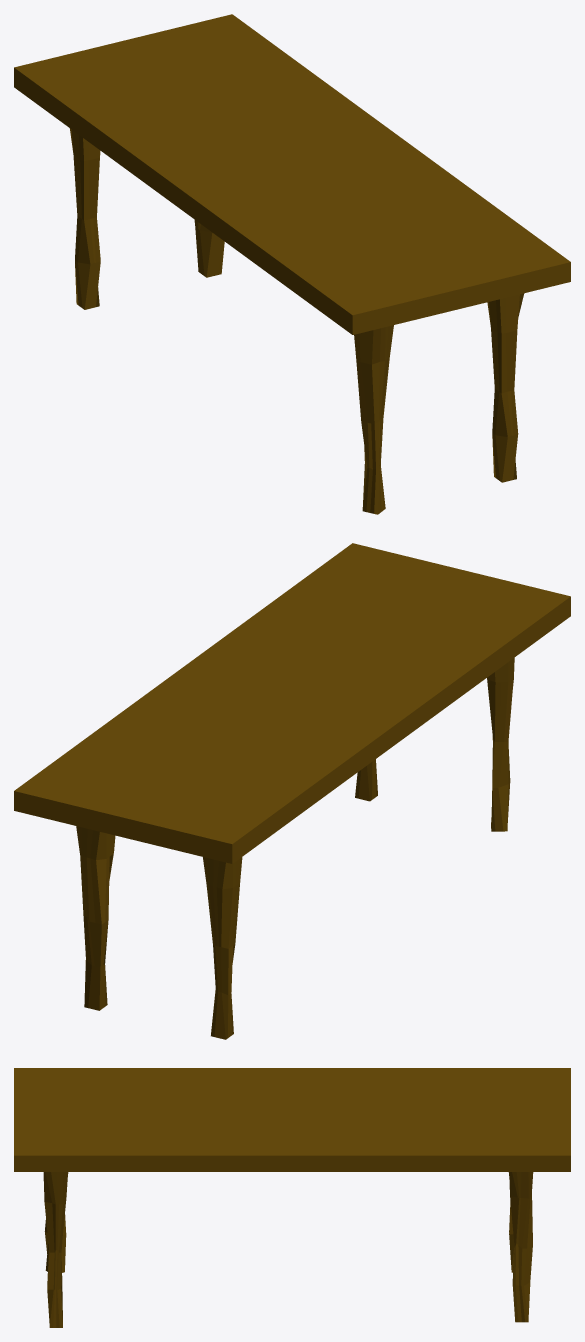
Rendered from table.glb.
3 views of the same model, one above another, from view 1: azimuth 30°, elevation 25°; view 2: azimuth 150°, elevation 25°; view 3: azimuth 270°, elevation 25° (orthographic). The views are drawn at different scales.
Parts seen in each view (by area): view 1: Cube.001, Cube.029, Cube.011, Cube.012, Cube.028; view 2: Cube.001, Cube.028, Cube.012, Cube.029, Cube.011; view 3: Cube.001, Cube.028, Cube.011, Cube.029.
Boxes of the visible parts, bbox=[...] form: Cube.001: bbox=[14, 14, 570, 334]; Cube.029: bbox=[354, 325, 393, 514]; Cube.011: bbox=[487, 293, 524, 482]; Cube.012: bbox=[70, 128, 100, 309]; Cube.028: bbox=[194, 220, 224, 277]; Cube.001: bbox=[14, 543, 570, 863]; Cube.028: bbox=[76, 826, 115, 1010]; Cube.012: bbox=[203, 857, 242, 1039]; Cube.029: bbox=[487, 657, 514, 831]; Cube.011: bbox=[355, 759, 377, 801]; Cube.001: bbox=[14, 1068, 570, 1171]; Cube.028: bbox=[509, 1172, 533, 1322]; Cube.011: bbox=[43, 1172, 68, 1327]; Cube.029: bbox=[44, 1215, 66, 1272].
Size of the model in its own units: 1.81 by 1.78 by 4.85.
